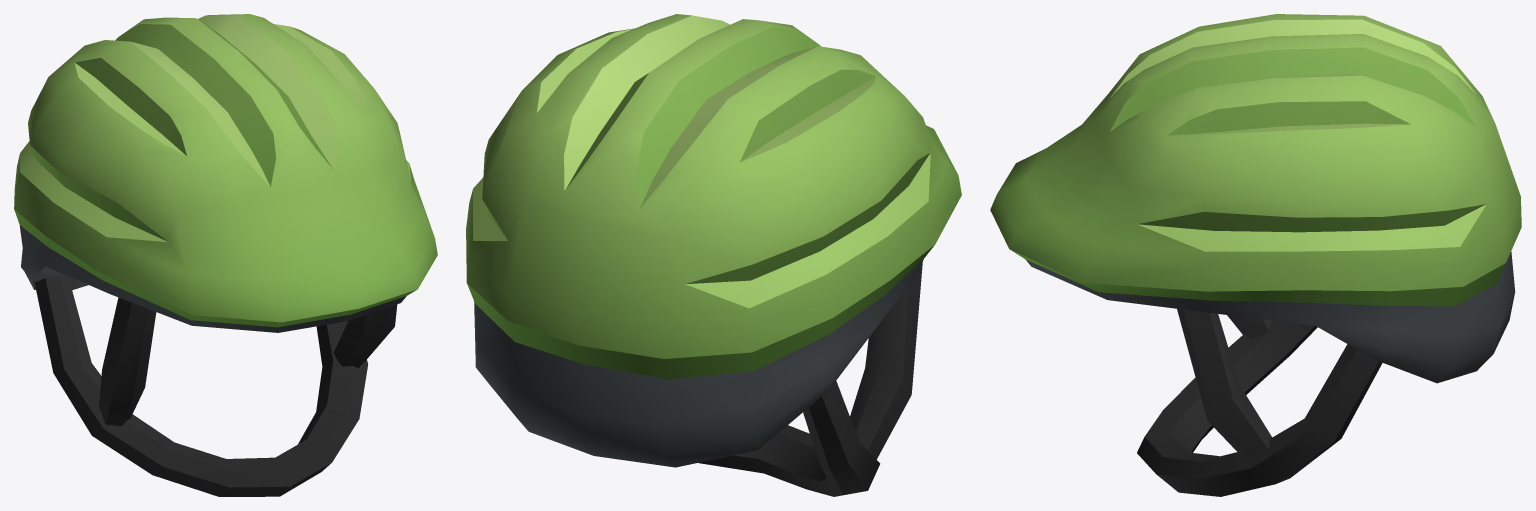
Rendered from bicycle_helmet.glb.
3 renders of one model, left to right at view 1: azimuth 30°, elevation 25°; view 2: azimuth 150°, elevation 25°; view 3: azimuth 270°, elevation 25°, orthographic. The views are drawn at different scales.
Visible parts, largest first — view 1: bicycle_helmet; view 2: bicycle_helmet; view 3: bicycle_helmet.
Boxes of the visible parts, left/top/right/bottom form: bicycle_helmet: left=14, top=14, right=437, bottom=496; bicycle_helmet: left=466, top=14, right=961, bottom=496; bicycle_helmet: left=990, top=14, right=1521, bottom=496.
Size of the model in its own units: 1.09 by 1.28 by 1.42.
Materials: 1 (1 with a texture image).
